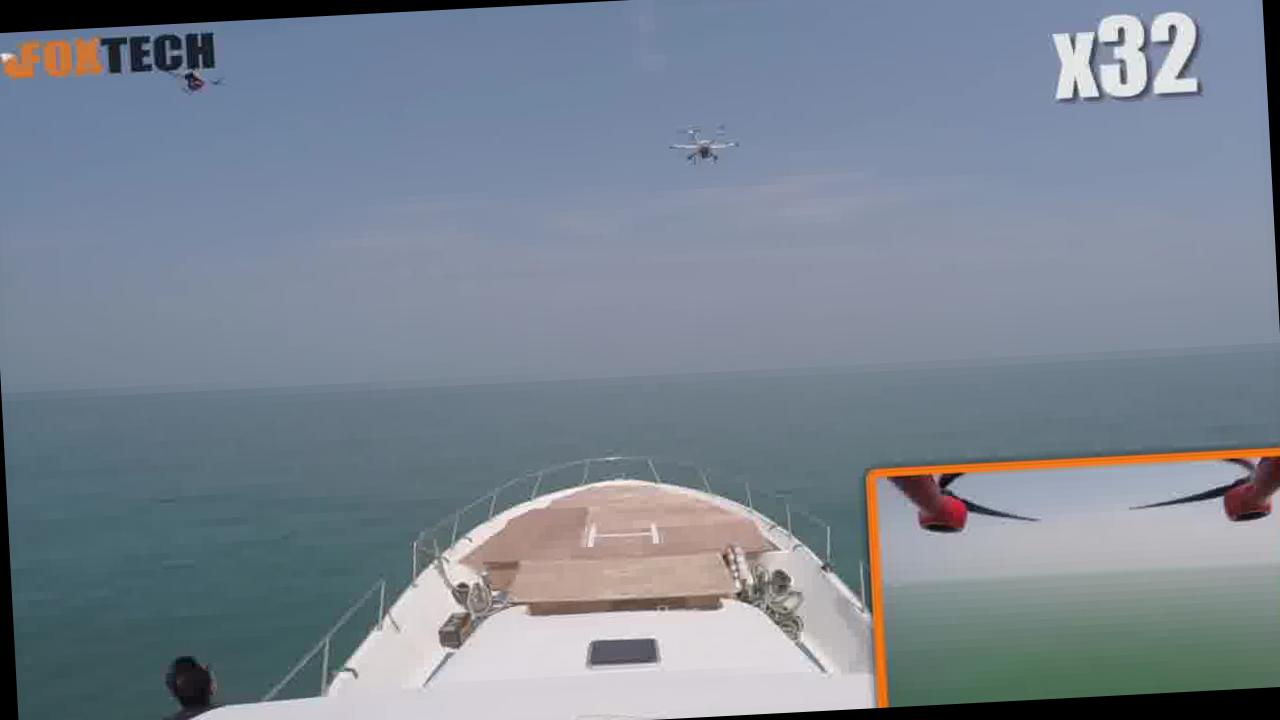drone: (658, 112, 744, 168)
